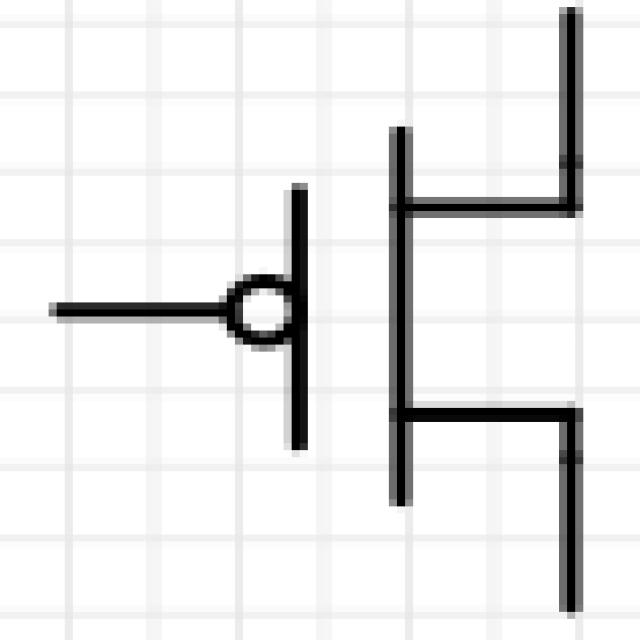pmos: (52, 36, 640, 624)
